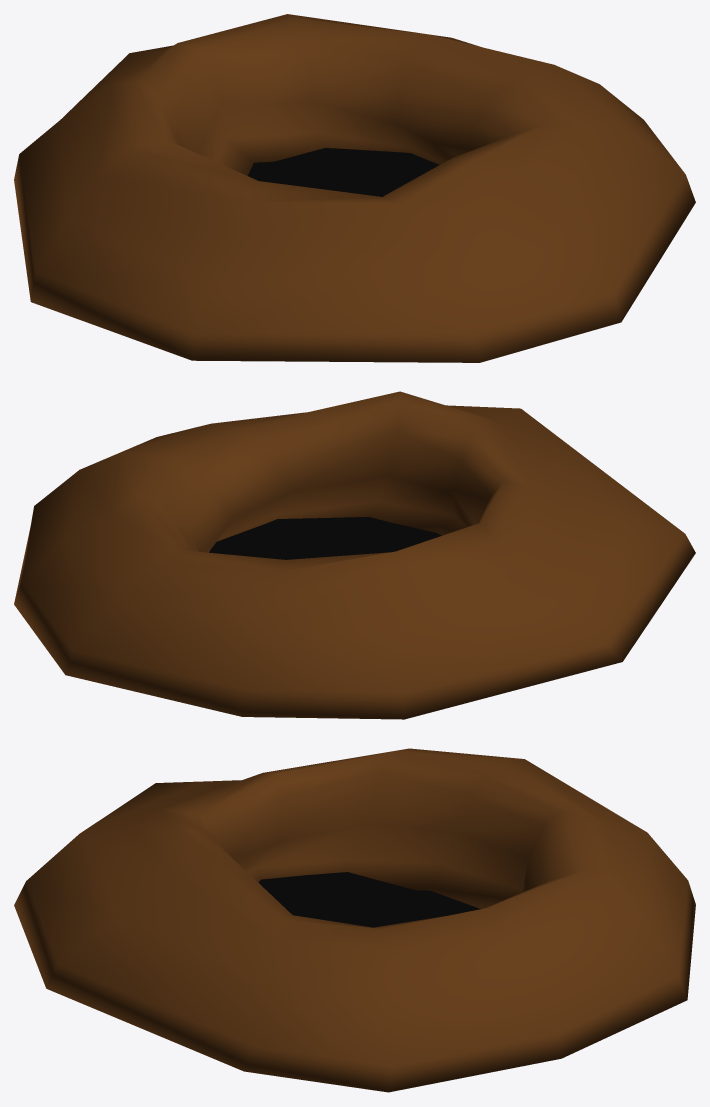
File: SmallBurrow.fbx
The picture shows the model from 3 angles, top to bottom: view 1: azimuth 30°, elevation 25°; view 2: azimuth 150°, elevation 25°; view 3: azimuth 270°, elevation 25°; orthographic projection. The views are drawn at different scales.
Parts seen in each view (by area): view 1: Torus, Plane; view 2: Torus, Plane; view 3: Torus, Plane.
Boxes of the visible parts, bbox=[...] form: Torus: bbox=[14, 14, 695, 362]; Plane: bbox=[248, 148, 438, 196]; Torus: bbox=[14, 391, 695, 719]; Plane: bbox=[209, 517, 441, 559]; Torus: bbox=[14, 748, 695, 1092]; Plane: bbox=[258, 872, 480, 927].
Size of the model in its own units: 240 by 48.88 by 237.
